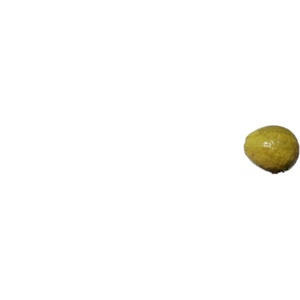goiaba: (240, 122, 298, 176)
